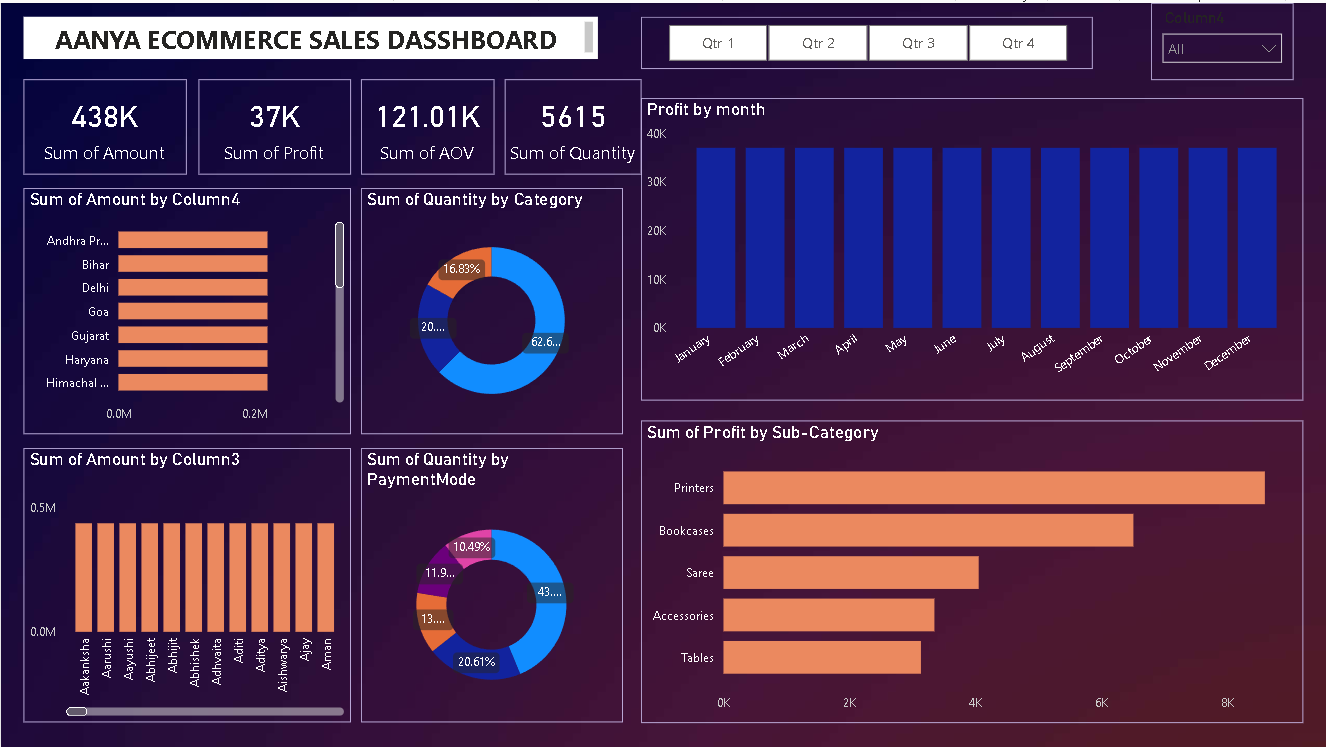

The page's visual inventory and layout, read from the dashboard file:
{"tool":"powerbi","page":{"name":"Page 1","canvas":[1280,720],"ordinal":0},"visuals":[{"type":"textbox","box":[22,13.7,554.4,41.2],"z":0},{"type":"columnChart","title":"Profit by month","fields":{"Y":["Min(Orders.Date.Variation.Date Hierarchy.Month)","Sum(Details.Profit)"],"Category":["Orders.Date.Variation.Date Hierarchy.Month"]},"box":[617.5,91.9,639.5,292.3],"z":1000},{"type":"barChart","fields":{"Category":["Details.Sub-Category"],"Y":["Sum(Details.Profit)"]},"box":[617.5,403.4,639.5,292.3],"z":2000},{"type":"donutChart","fields":{"Category":["Details.Category"],"Y":["Sum(Details.Quantity)"]},"box":[347.2,178.4,252.5,237.4],"z":3000},{"type":"donutChart","fields":{"Y":["Sum(Details.Quantity)"],"Category":["Details.PaymentMode"]},"box":[347.2,429.5,252.5,264.8],"z":4000},{"type":"card","fields":{"Values":["Sum(Details.Amount)"]},"box":[22,74.1,157.8,91.9],"z":5000},{"type":"card","fields":{"Values":["Sum(Details.Profit)"]},"box":[190.7,74.1,146.8,91.9],"z":6000},{"type":"card","fields":{"Values":["Sum(Details.AOV)"]},"box":[347.2,74.1,129,91.9],"z":7000},{"type":"card","fields":{"Values":["Sum(Details.Quantity)"]},"box":[485.8,74.1,131.7,91.9],"z":8000},{"type":"barChart","fields":{"Y":["Sum(Details.Amount)"],"Category":["Orders.Column4"]},"box":[22,178.4,315.6,237.4],"z":9000},{"type":"columnChart","fields":{"Category":["Orders.Column3"],"Y":["Sum(Details.Amount)"]},"box":[22,429.5,315.6,264.8],"z":9001},{"type":"slicer","fields":{"Values":["Orders.Date.Variation.Date Hierarchy.Quarter"]},"box":[617.5,13.7,436.4,50.8],"z":9002},{"type":"slicer","fields":{"Values":["Orders.Column4"]},"box":[1110.1,0,137.2,74.1],"z":9003}]}

Visuals, with their boxes in screenshot pixels (x1, y1, x2, y2), scaled from the page's 1280x720 canvas onto the 1326x747 screenshot:
textbox: box(23, 14, 597, 57)
"Profit by month" columnChart: box(640, 95, 1302, 399)
barChart - Details.Sub-Category x Sum(Details.Profit): box(640, 419, 1302, 722)
donutChart - Details.Category x Sum(Details.Quantity): box(360, 185, 621, 431)
donutChart - Sum(Details.Quantity) x Details.PaymentMode: box(360, 446, 621, 720)
card - Sum(Details.Amount): box(23, 77, 186, 172)
card - Sum(Details.Profit): box(198, 77, 350, 172)
card - Sum(Details.AOV): box(360, 77, 493, 172)
card - Sum(Details.Quantity): box(503, 77, 640, 172)
barChart - Sum(Details.Amount) x Orders.Column4: box(23, 185, 350, 431)
columnChart - Orders.Column3 x Sum(Details.Amount): box(23, 446, 350, 720)
slicer - Orders.Date.Variation.Date Hierarchy.Quarter: box(640, 14, 1092, 67)
slicer - Orders.Column4: box(1150, 0, 1292, 77)
